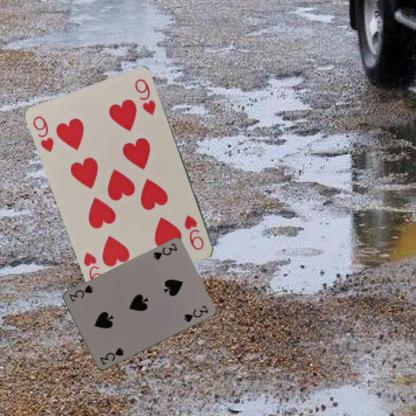3s: (150, 240, 179, 262), (97, 345, 125, 366)
9h: (30, 113, 56, 154), (182, 212, 206, 252)
